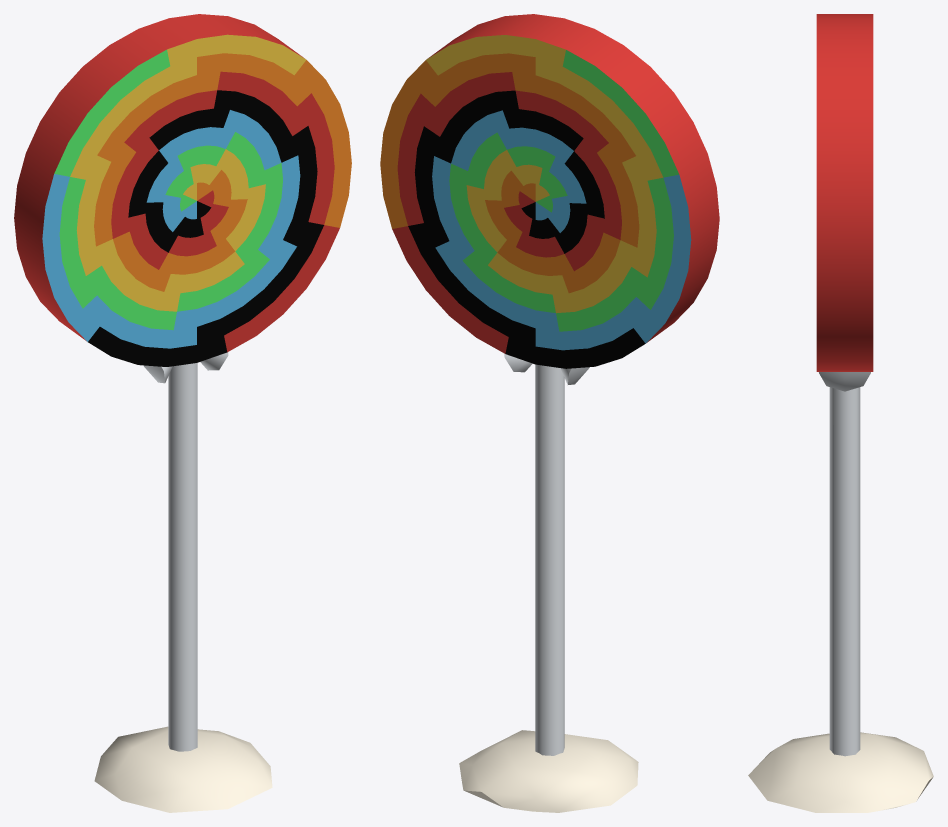
The model's file is LollipopB.fbx.
3 views of the same model, side by side, from view 1: azimuth 30°, elevation 25°; view 2: azimuth 150°, elevation 25°; view 3: azimuth 270°, elevation 25° (orthographic).
Visible parts, largest first — view 1: LollipopB; view 2: LollipopB; view 3: LollipopB.
Boxes of the visible parts, x1=… form: LollipopB: x1=14, y1=14, x2=351, y2=812; LollipopB: x1=380, y1=14, x2=719, y2=812; LollipopB: x1=748, y1=14, x2=933, y2=812.
Size of the model in its own units: 1.64 by 3.77 by 0.8502.
2 materials, 2 textured.
